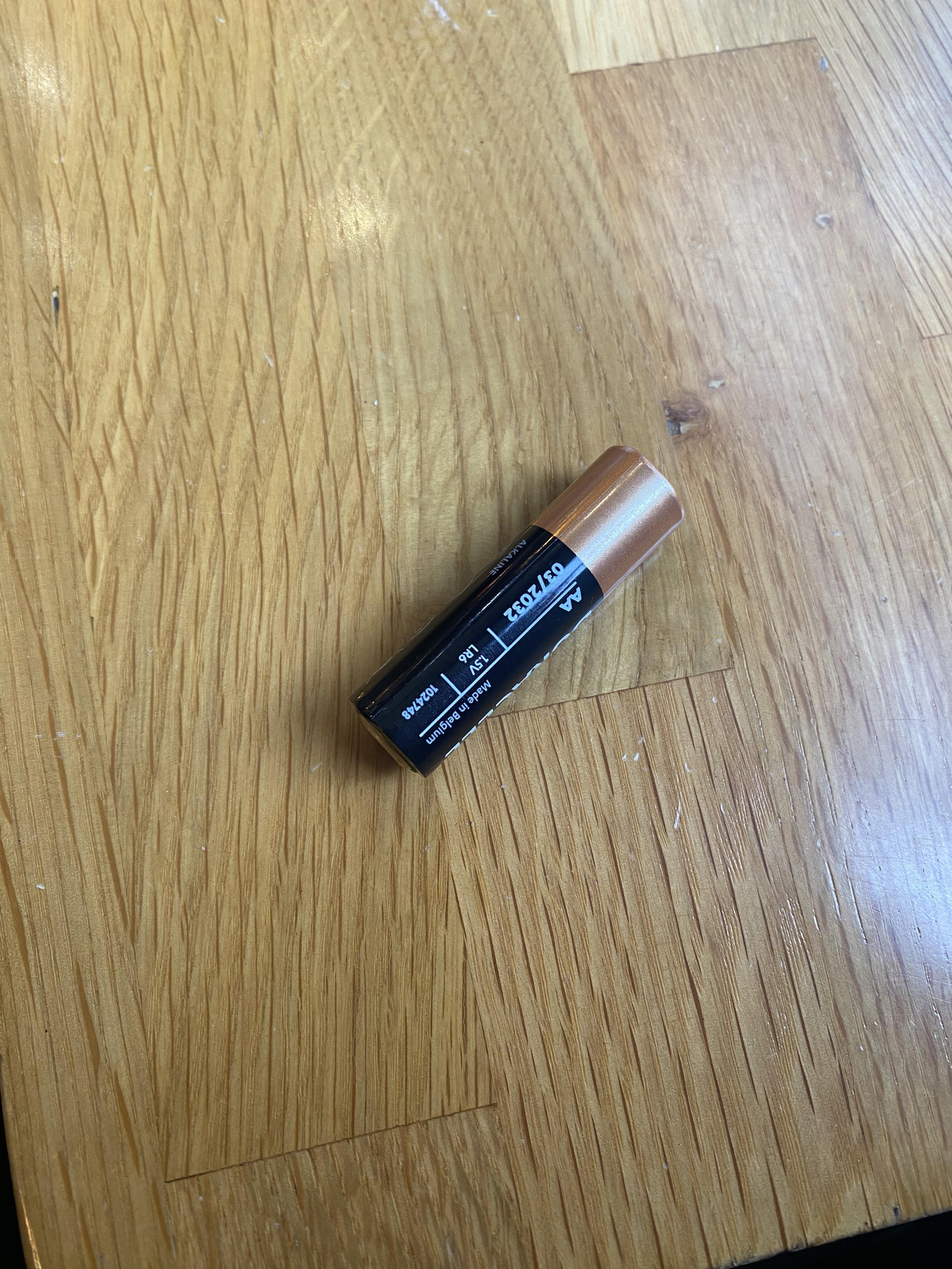AA: (343, 437, 690, 785)
